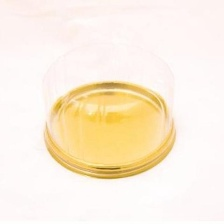plastic_box: (33, 34, 187, 186)
